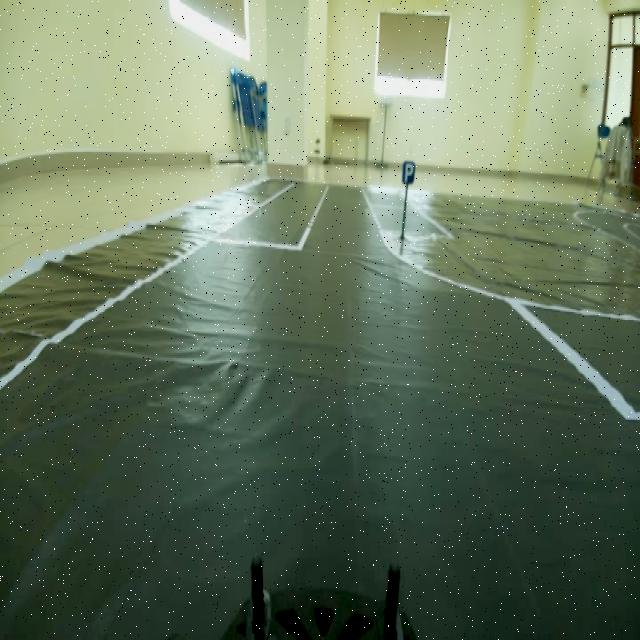parking: (399, 150, 422, 188)
